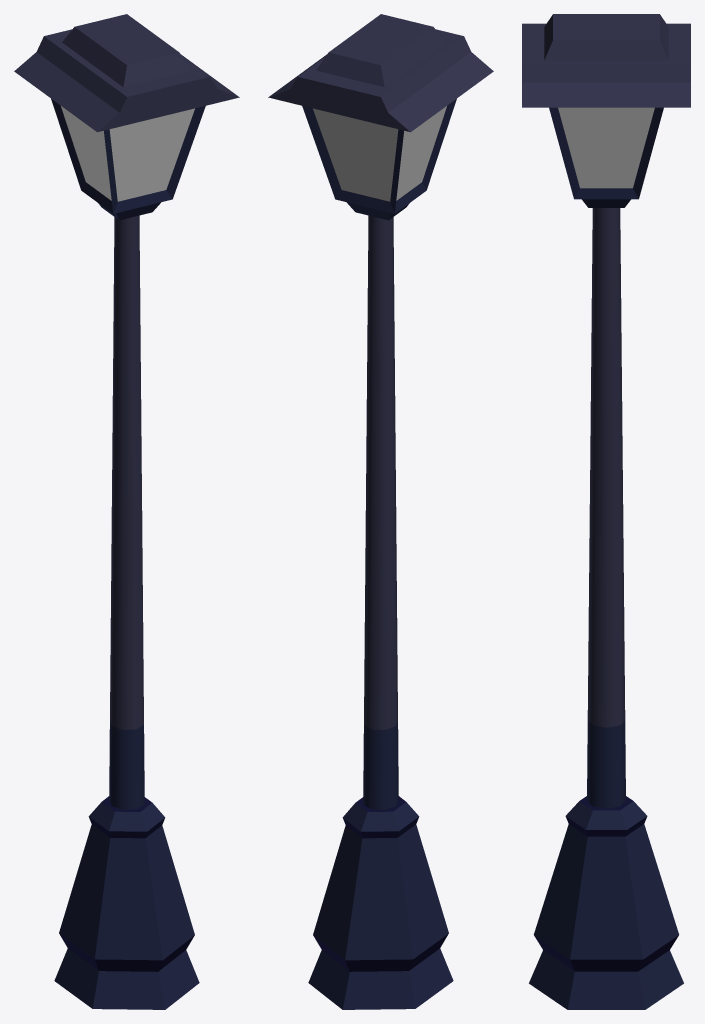
The model's file is PosteCenario.fbx.
3 renders of one model, left to right at view 1: azimuth 30°, elevation 25°; view 2: azimuth 150°, elevation 25°; view 3: azimuth 270°, elevation 25°, orthographic.
Parts seen in each view (by area): view 1: PosteCenario, PosteCenarioLuz; view 2: PosteCenario, PosteCenarioLuz; view 3: PosteCenario, PosteCenarioLuz.
Boxes of the visible parts, x1,y1,x2,y2 form: PosteCenario: (14, 14, 239, 1009); PosteCenarioLuz: (61, 106, 194, 201); PosteCenario: (268, 14, 493, 1009); PosteCenarioLuz: (313, 106, 446, 201); PosteCenario: (522, 14, 690, 1009); PosteCenarioLuz: (558, 107, 654, 188).
Size of the model in its own units: 47.55 by 300 by 48.
